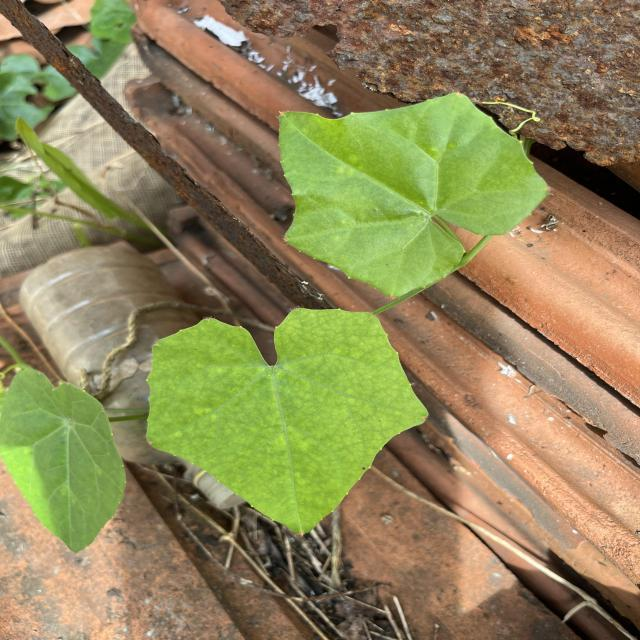Coccinia grandis: (148, 307, 432, 538), (276, 90, 552, 301)
